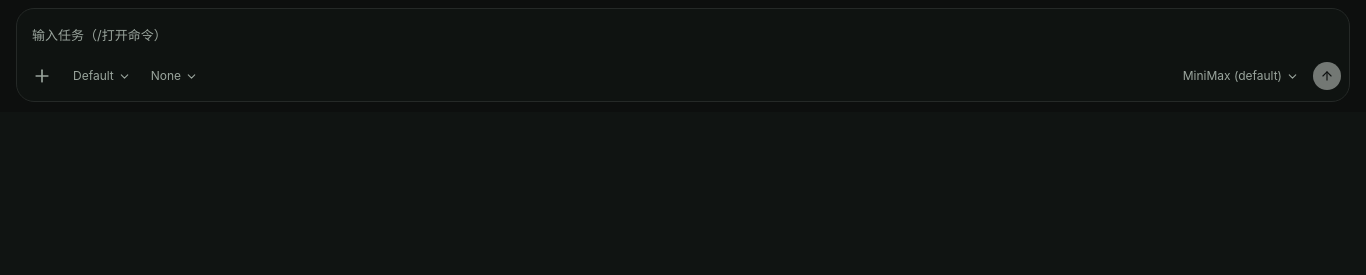
Test case: ThreadComposer interactions › handles true sequential Escape shortcuts with control menu priority: 1st closes control menu, 2nd blurs composer, 3rd refocuses editor via focusOnEscape
Note: 聚焦输入 /th
Type "/th" into the field named "给 AI 发送消息" at [683, 35], box [25,17,1341,53]
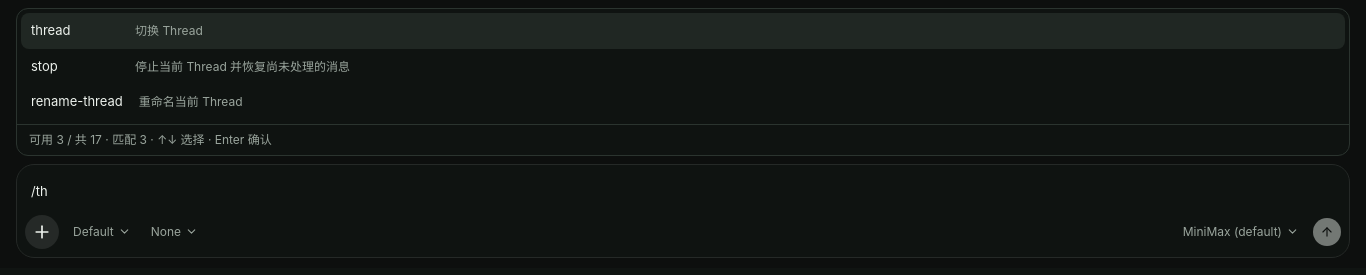
Expected: the list named "命令表" is shown, [16,8,1350,156]
Note: 打开权限菜单（上层 control menu）
Click the button with aria-label "权限模式" at [102, 232], box [65,216,139,246]
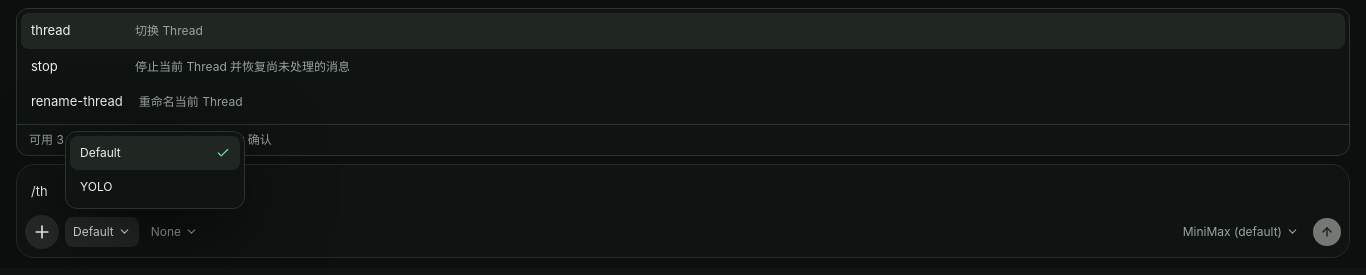
Expected: the list named "权限选项" is shown, [66,132,244,208]
Note: 真正连续快捷键 1：Esc 关闭权限菜单，优先消费 Esc，保持 editor 聚焦并呈现 /th 命令表
Press Escape
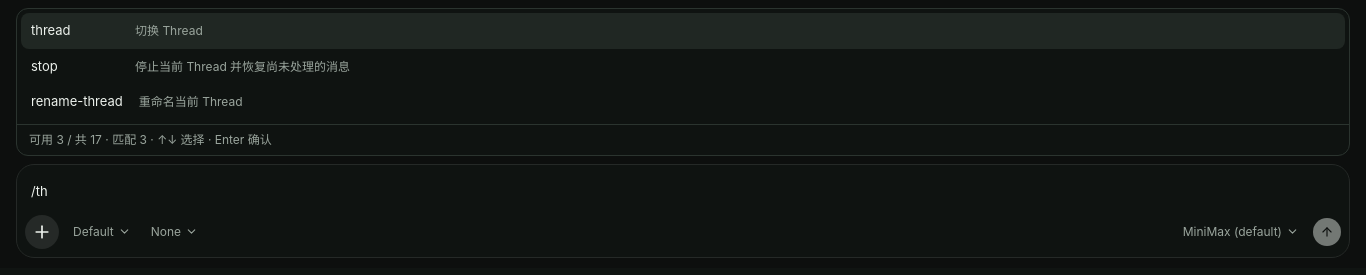
Expected: the list named "命令表" is shown, [16,8,1350,156]
Expected: the list "权限选项" is gone
Note: 真正连续快捷键 2：Esc 此时聚焦且无上层菜单，blur 整个 composer 并收起
Press Escape
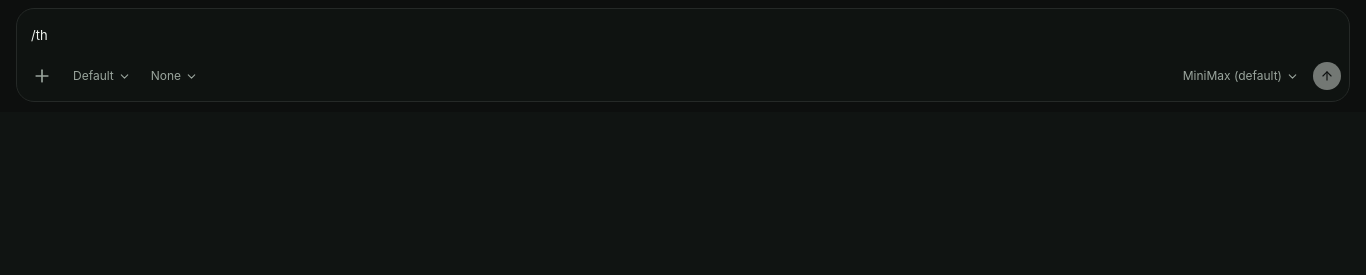
Expected: the list labelled "命令表" is gone
Note: 真正连续快捷键 3：Esc 未聚焦时全局 focusOnEscape 恢复焦点，并因 /th 自动重开命令表
Press Escape
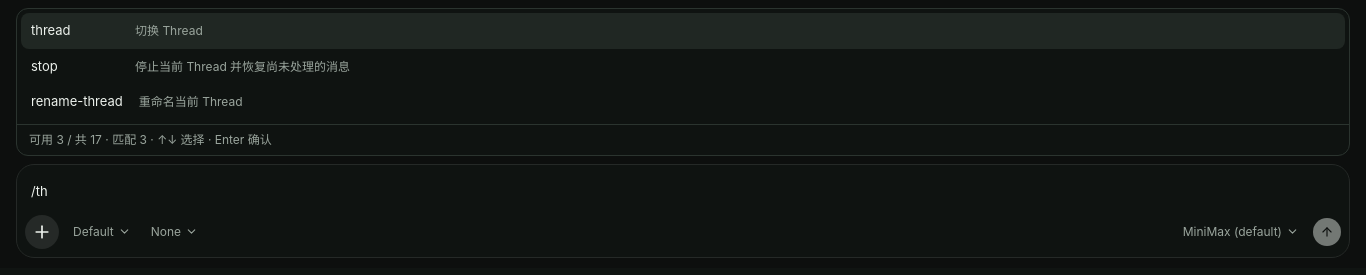
Expected: the list named "命令表" is shown, [16,8,1350,156]
